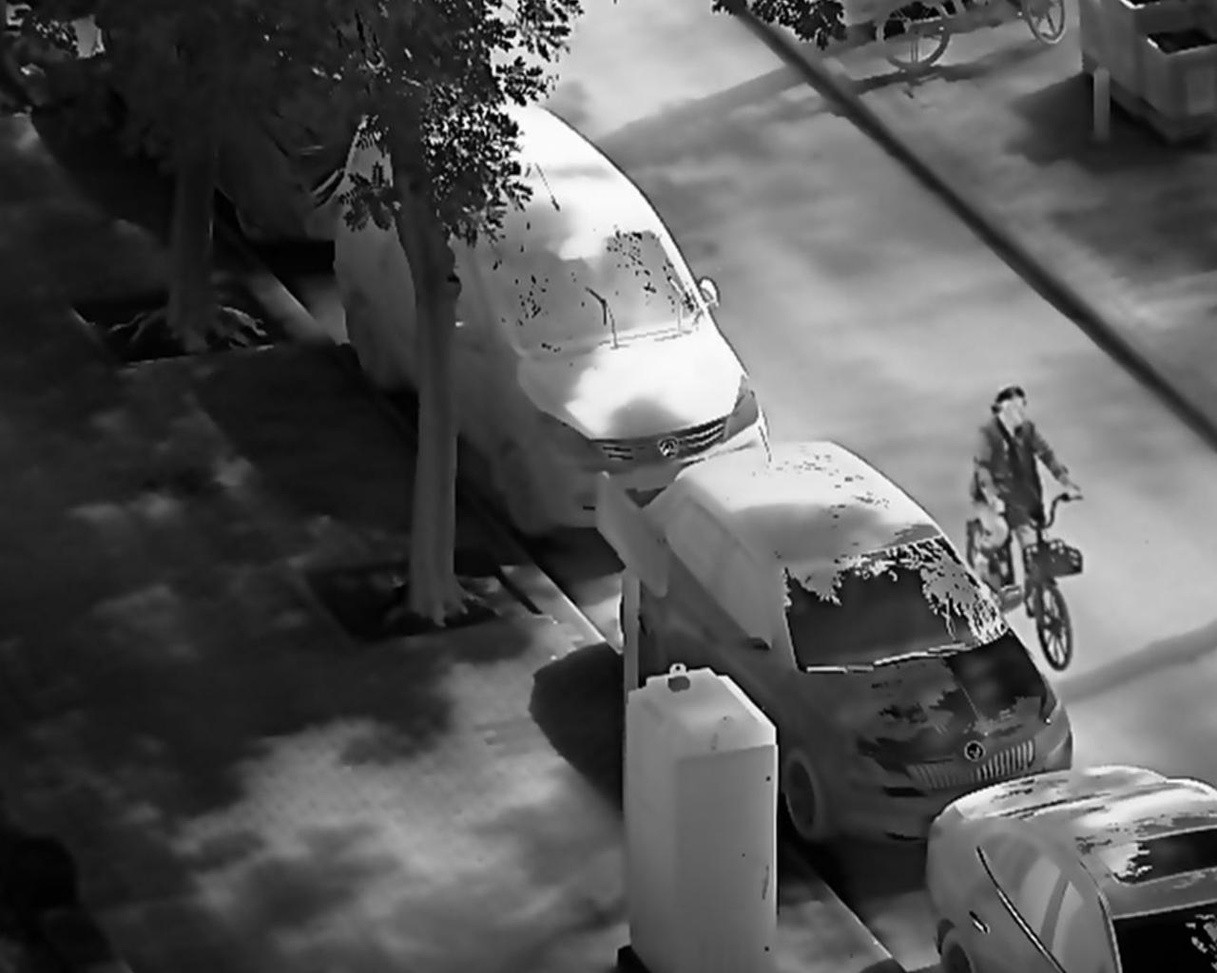person: (969, 379, 1088, 590)
